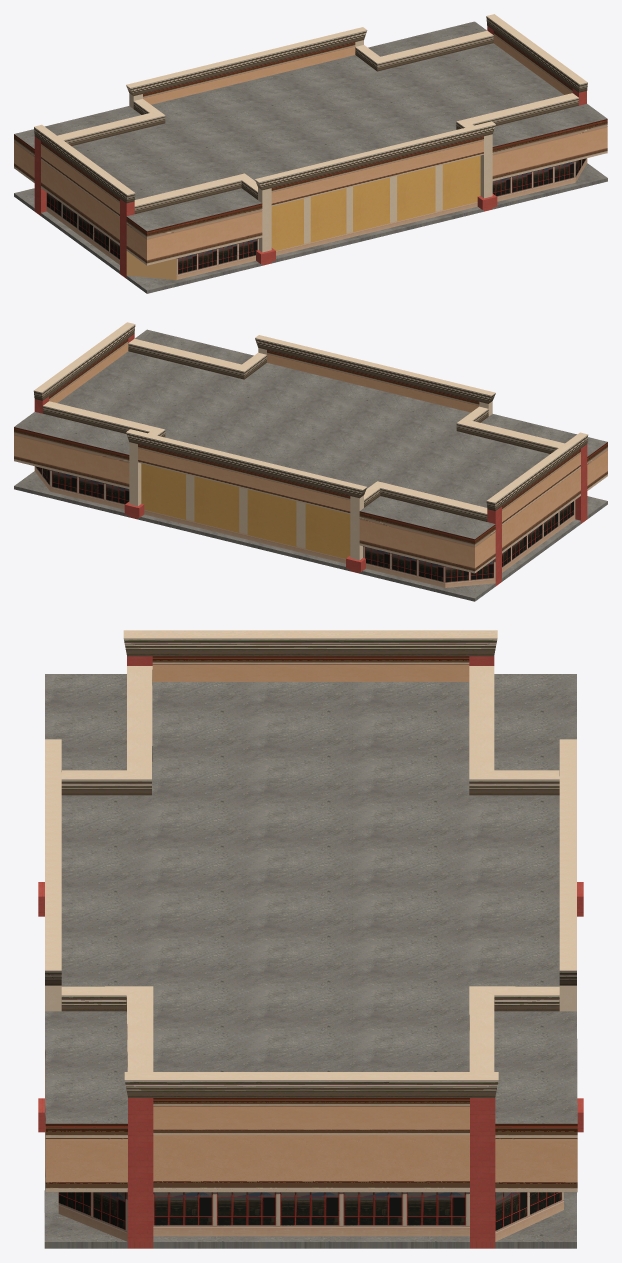
Rendered from lowbuild03_lvs.obj.
3 views of the same model, one above another, from view 1: azimuth 30°, elevation 25°; view 2: azimuth 150°, elevation 25°; view 3: azimuth 270°, elevation 25° (orthographic). The views are drawn at different scales.
Visible parts, largest first — view 1: lowbuild03_lvs; view 2: lowbuild03_lvs; view 3: lowbuild03_lvs.
Boxes of the visible parts, x1,y1,x2,y2 form: lowbuild03_lvs: (14,14,607,293); lowbuild03_lvs: (14,322,607,601); lowbuild03_lvs: (38,630,583,1248).
Size of the model in its own units: 80.02 by 14 by 41.
Materials: 8 (8 with a texture image).
